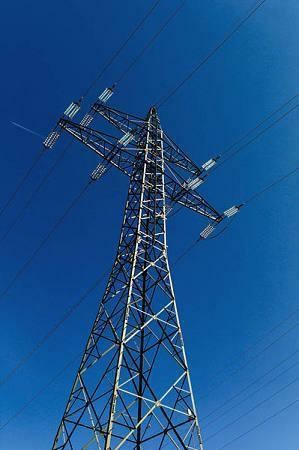power_tower: (33, 86, 238, 450)
